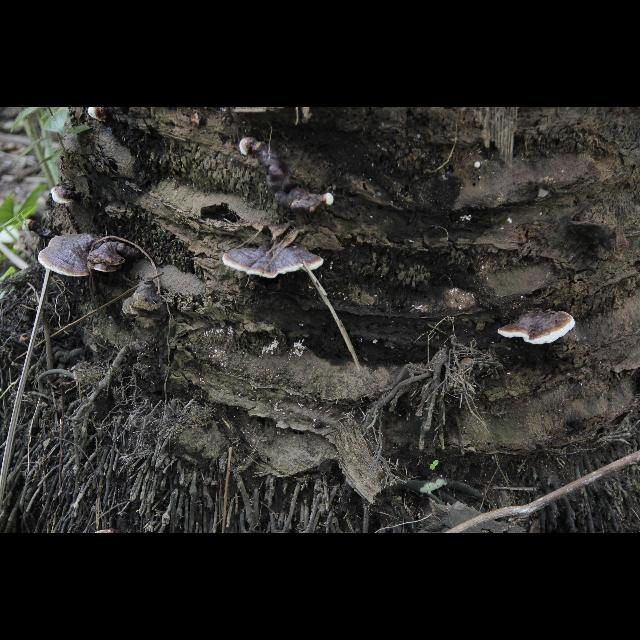ganoderma: (255, 138, 324, 218), (224, 244, 325, 280), (38, 234, 106, 279), (498, 311, 576, 346), (87, 243, 143, 274), (52, 187, 85, 206), (14, 239, 38, 255)
primordium: (89, 109, 111, 124), (240, 138, 254, 157), (24, 220, 41, 233), (324, 195, 335, 208), (475, 163, 481, 170)
